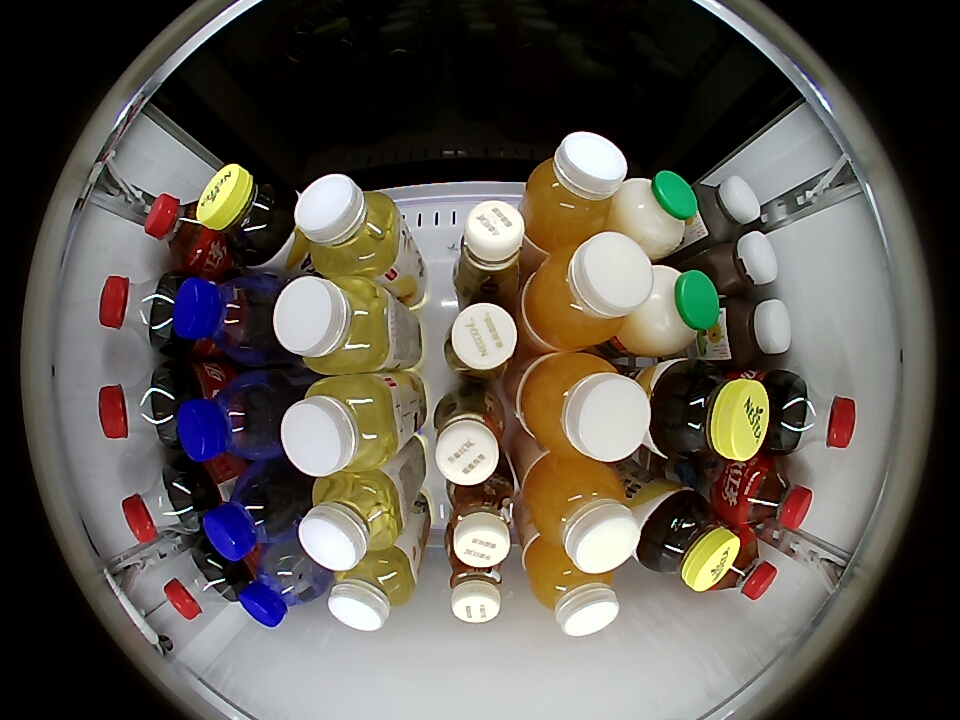aerbeisi: (176, 372, 286, 465), (172, 274, 278, 364), (203, 468, 302, 560), (239, 543, 324, 627)
binghongcha: (733, 458, 814, 531), (144, 193, 216, 273), (715, 531, 777, 600)
chacui: (650, 358, 771, 463), (637, 486, 740, 591), (197, 164, 298, 269)
chapai2: (274, 274, 394, 375), (282, 375, 400, 477), (298, 470, 405, 571), (296, 174, 401, 276), (328, 548, 416, 631)
kafei: (451, 201, 526, 300), (432, 391, 506, 486), (446, 471, 516, 569), (444, 302, 518, 382), (448, 547, 504, 623)
kele-b: (97, 369, 183, 445), (774, 375, 856, 454), (99, 273, 182, 351), (122, 466, 204, 544), (165, 544, 242, 621)
liziyuan: (621, 265, 719, 357), (610, 170, 699, 259)
weic: (522, 231, 651, 351), (517, 352, 651, 462), (522, 455, 639, 573), (521, 131, 627, 252), (524, 536, 620, 636)
youyanggudong: (705, 230, 779, 297), (720, 298, 793, 364), (695, 175, 764, 241)
